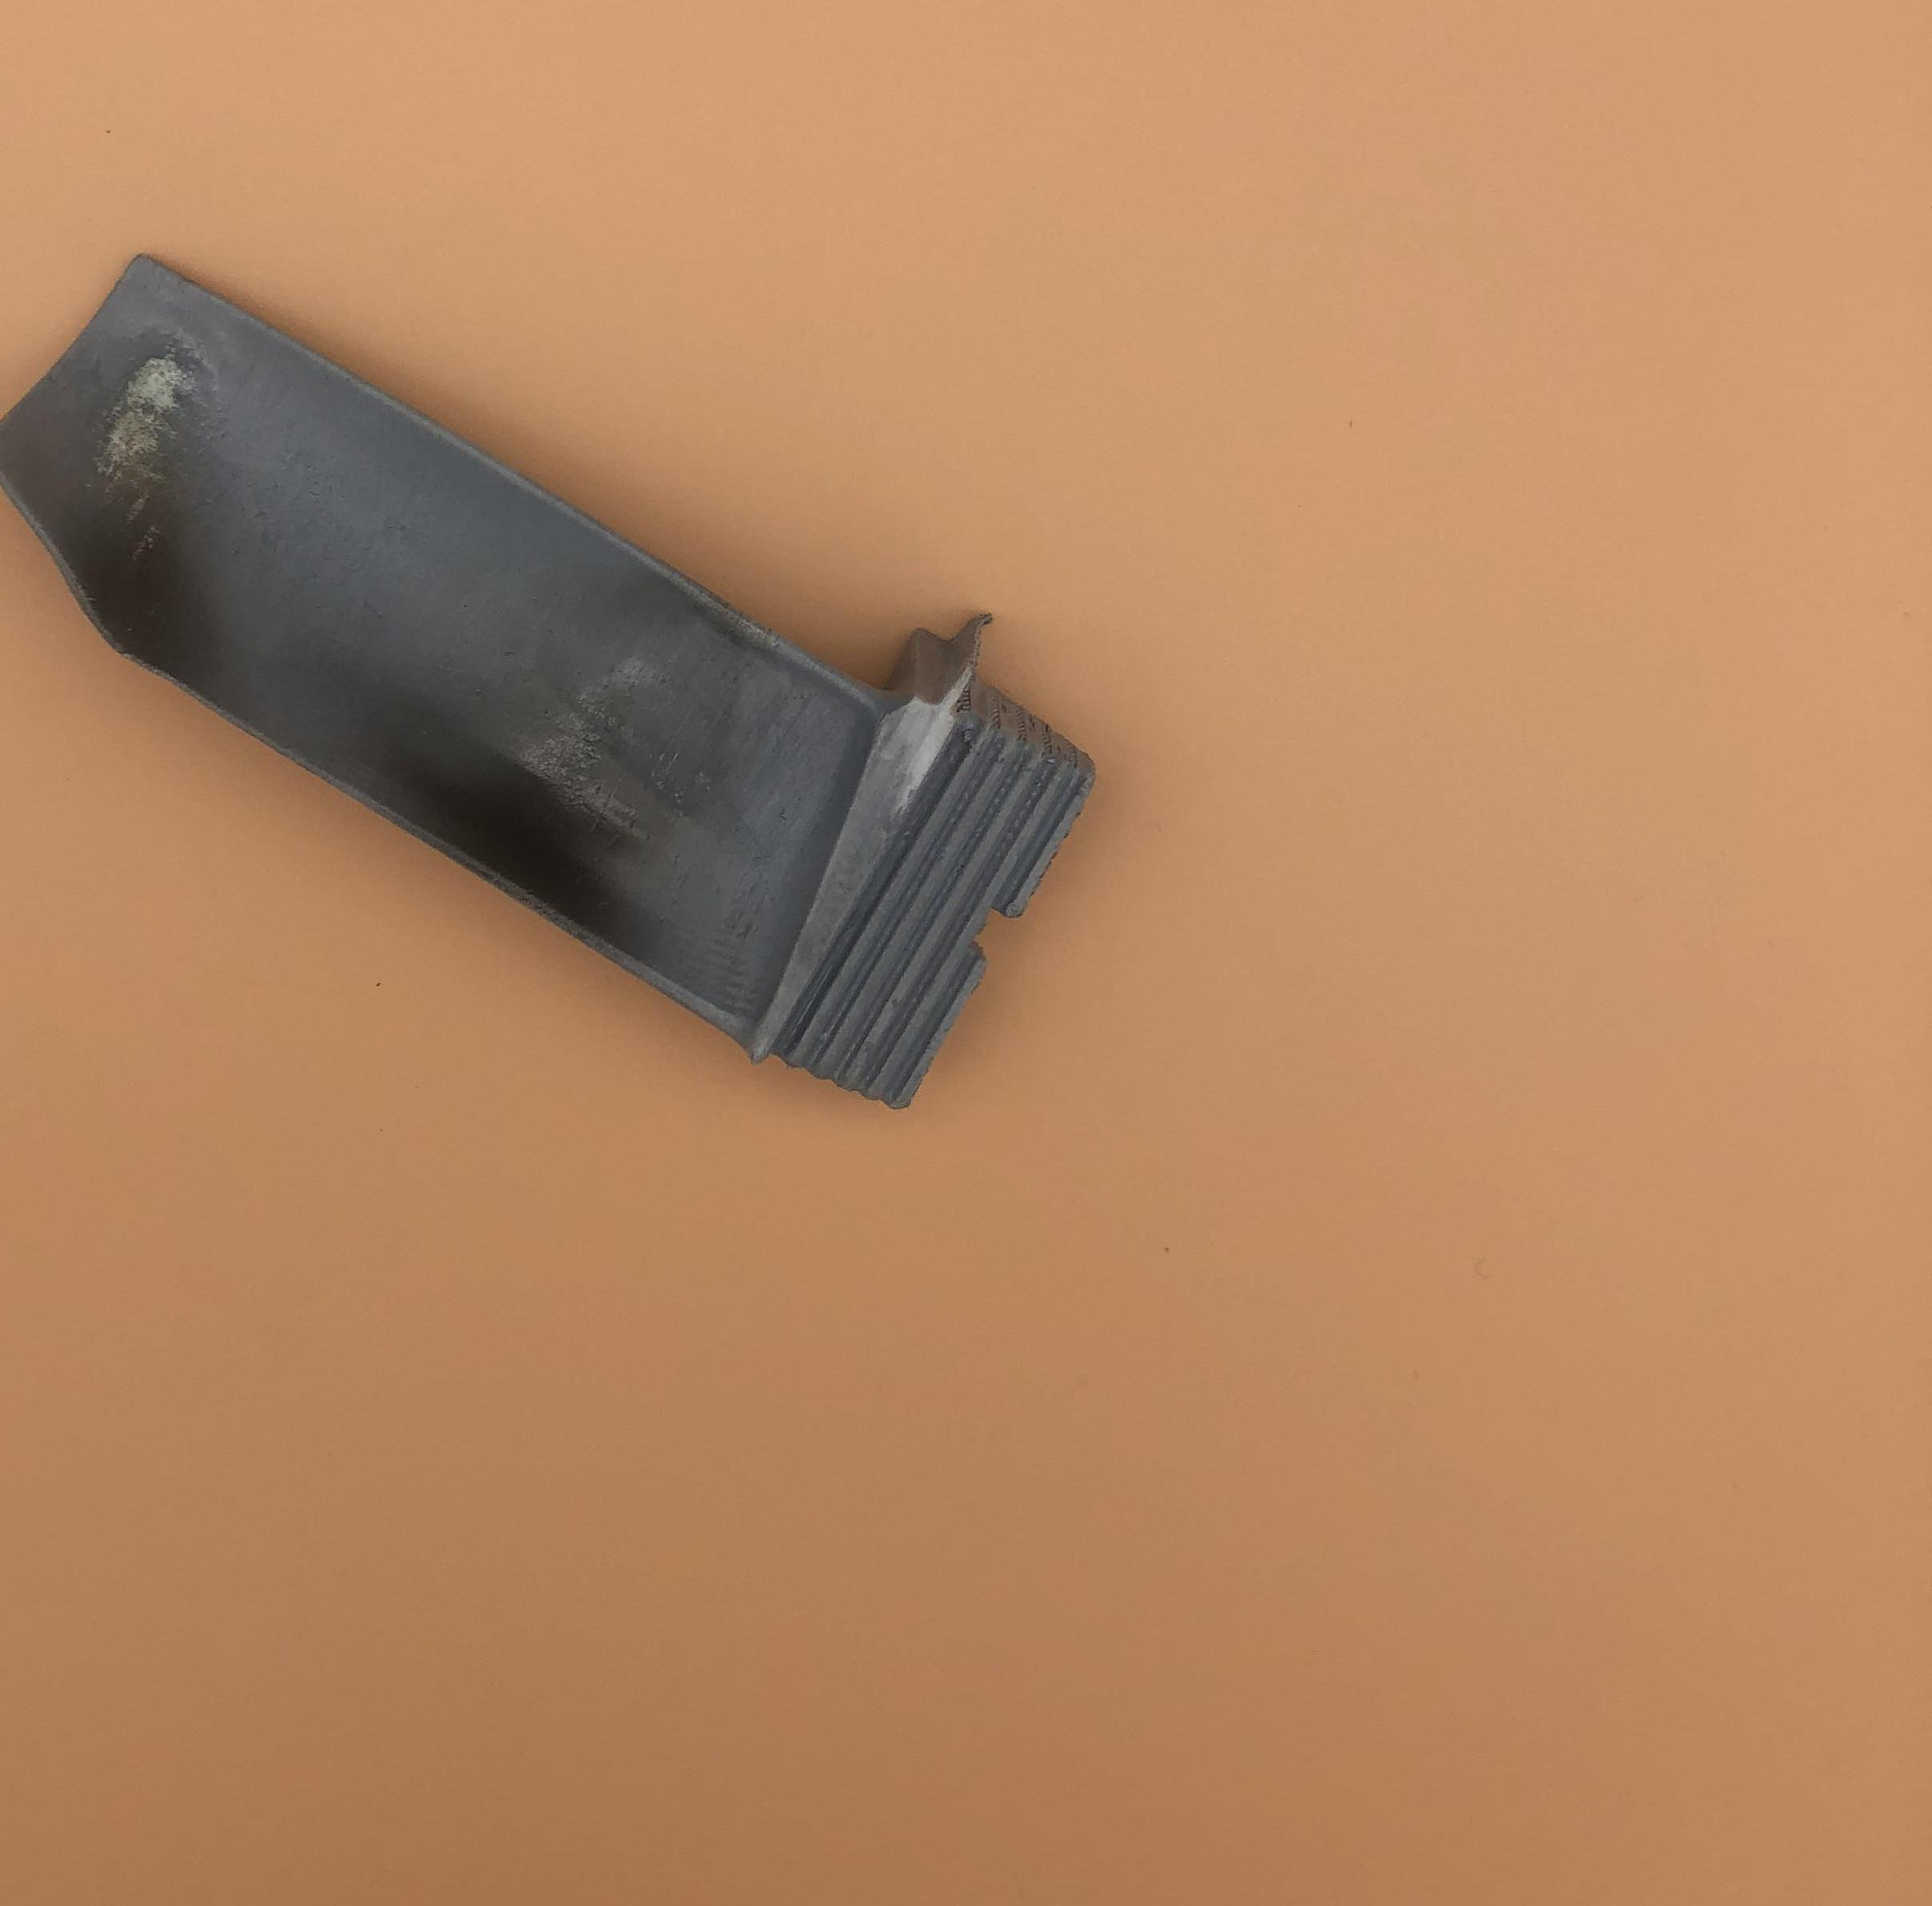ablation: (419, 721, 635, 902), (70, 470, 206, 658)
